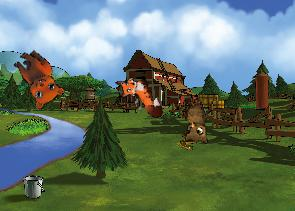bear: (1, 44, 71, 114)
fox: (111, 67, 166, 129)
owl: (173, 96, 213, 149)
